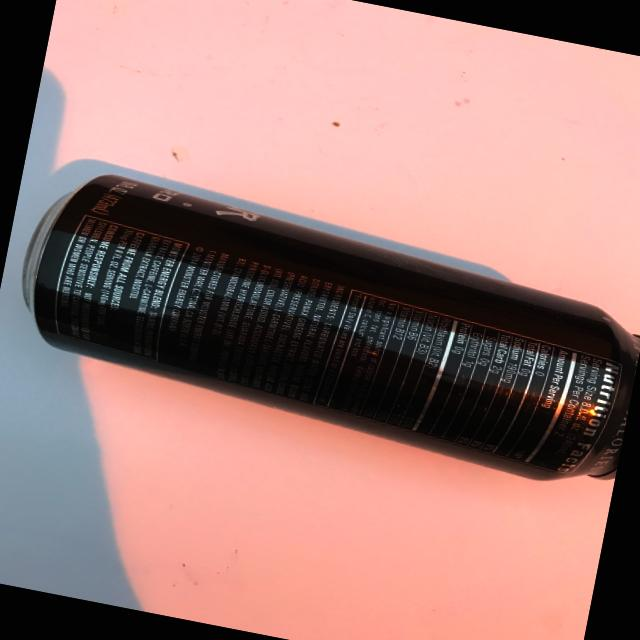Metal: (0, 137, 640, 509)
